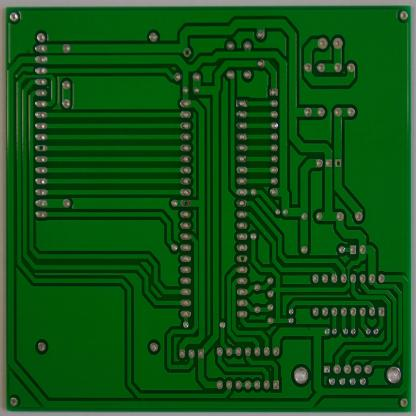missing_hole: (180, 197, 192, 208), (182, 47, 192, 59), (36, 142, 46, 154), (237, 254, 247, 265), (335, 158, 341, 168)
